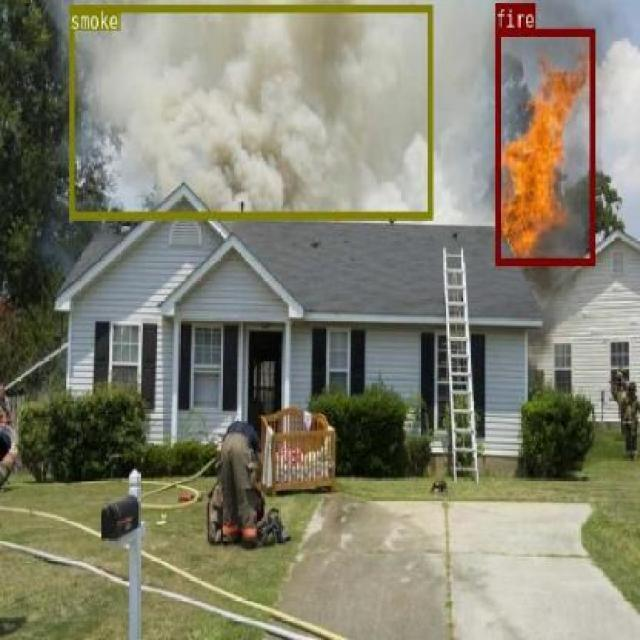fire: (494, 28, 594, 264)
smoke: (69, 3, 432, 217)
